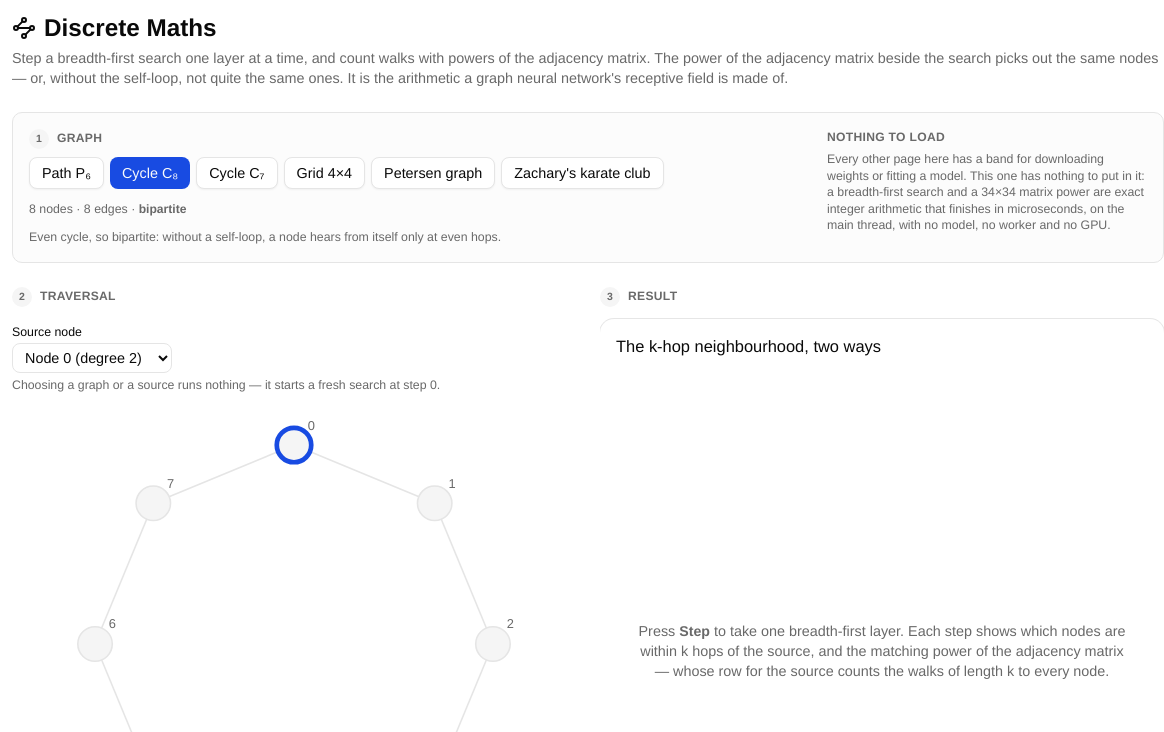
Scenario: DiscreteMathsPage › credits the karate club's data source
The width and height of the screenshot is (1164, 732).
What coordinates should you click on to do the following:
click the button "Zachary's karate club"
I would click on:
 (582, 173)
Its box is left=501, top=157, right=664, bottom=189.
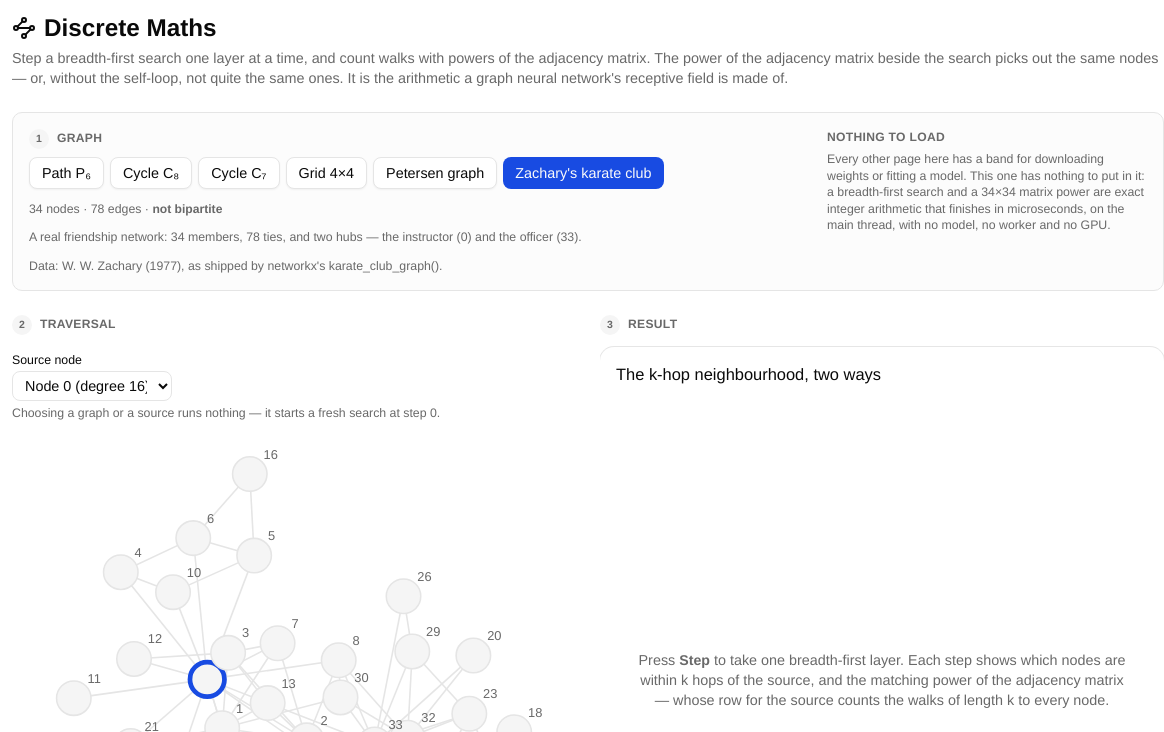
Expected: the element with test id "slot-1" shows "Zachary (1977)", left=62, top=258, right=439, bottom=274
Expected: the element with test id "graph-facts" shows "34 nodes · 78 edges", left=29, top=201, right=222, bottom=217
